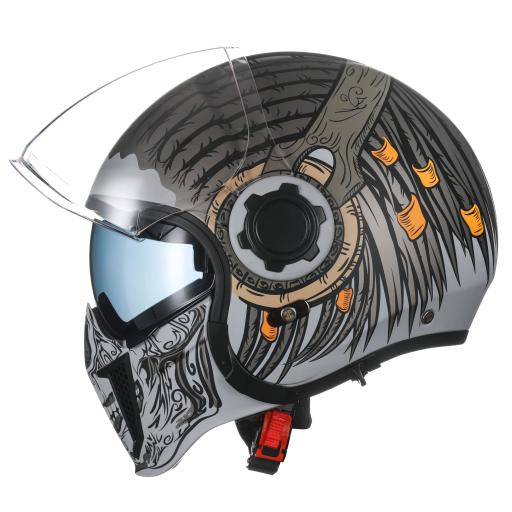helmet-detection: (11, 13, 510, 494)
